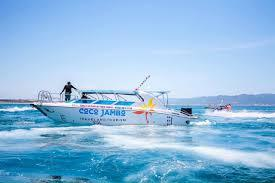Ship: (25, 73, 195, 128), (206, 102, 238, 122)
